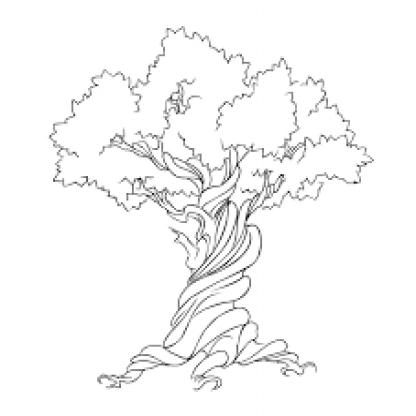branch_cut: (108, 92, 286, 218)
crown_cloud: (49, 25, 376, 210)
root_only: (96, 335, 320, 393)
trunk_bark: (167, 233, 268, 327)
